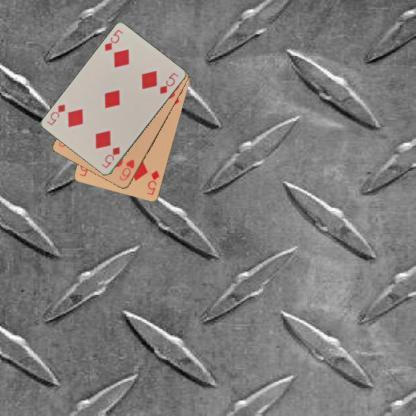5d: (98, 144, 122, 170), (102, 27, 124, 53), (144, 168, 160, 196)
6h: (116, 156, 135, 182)
